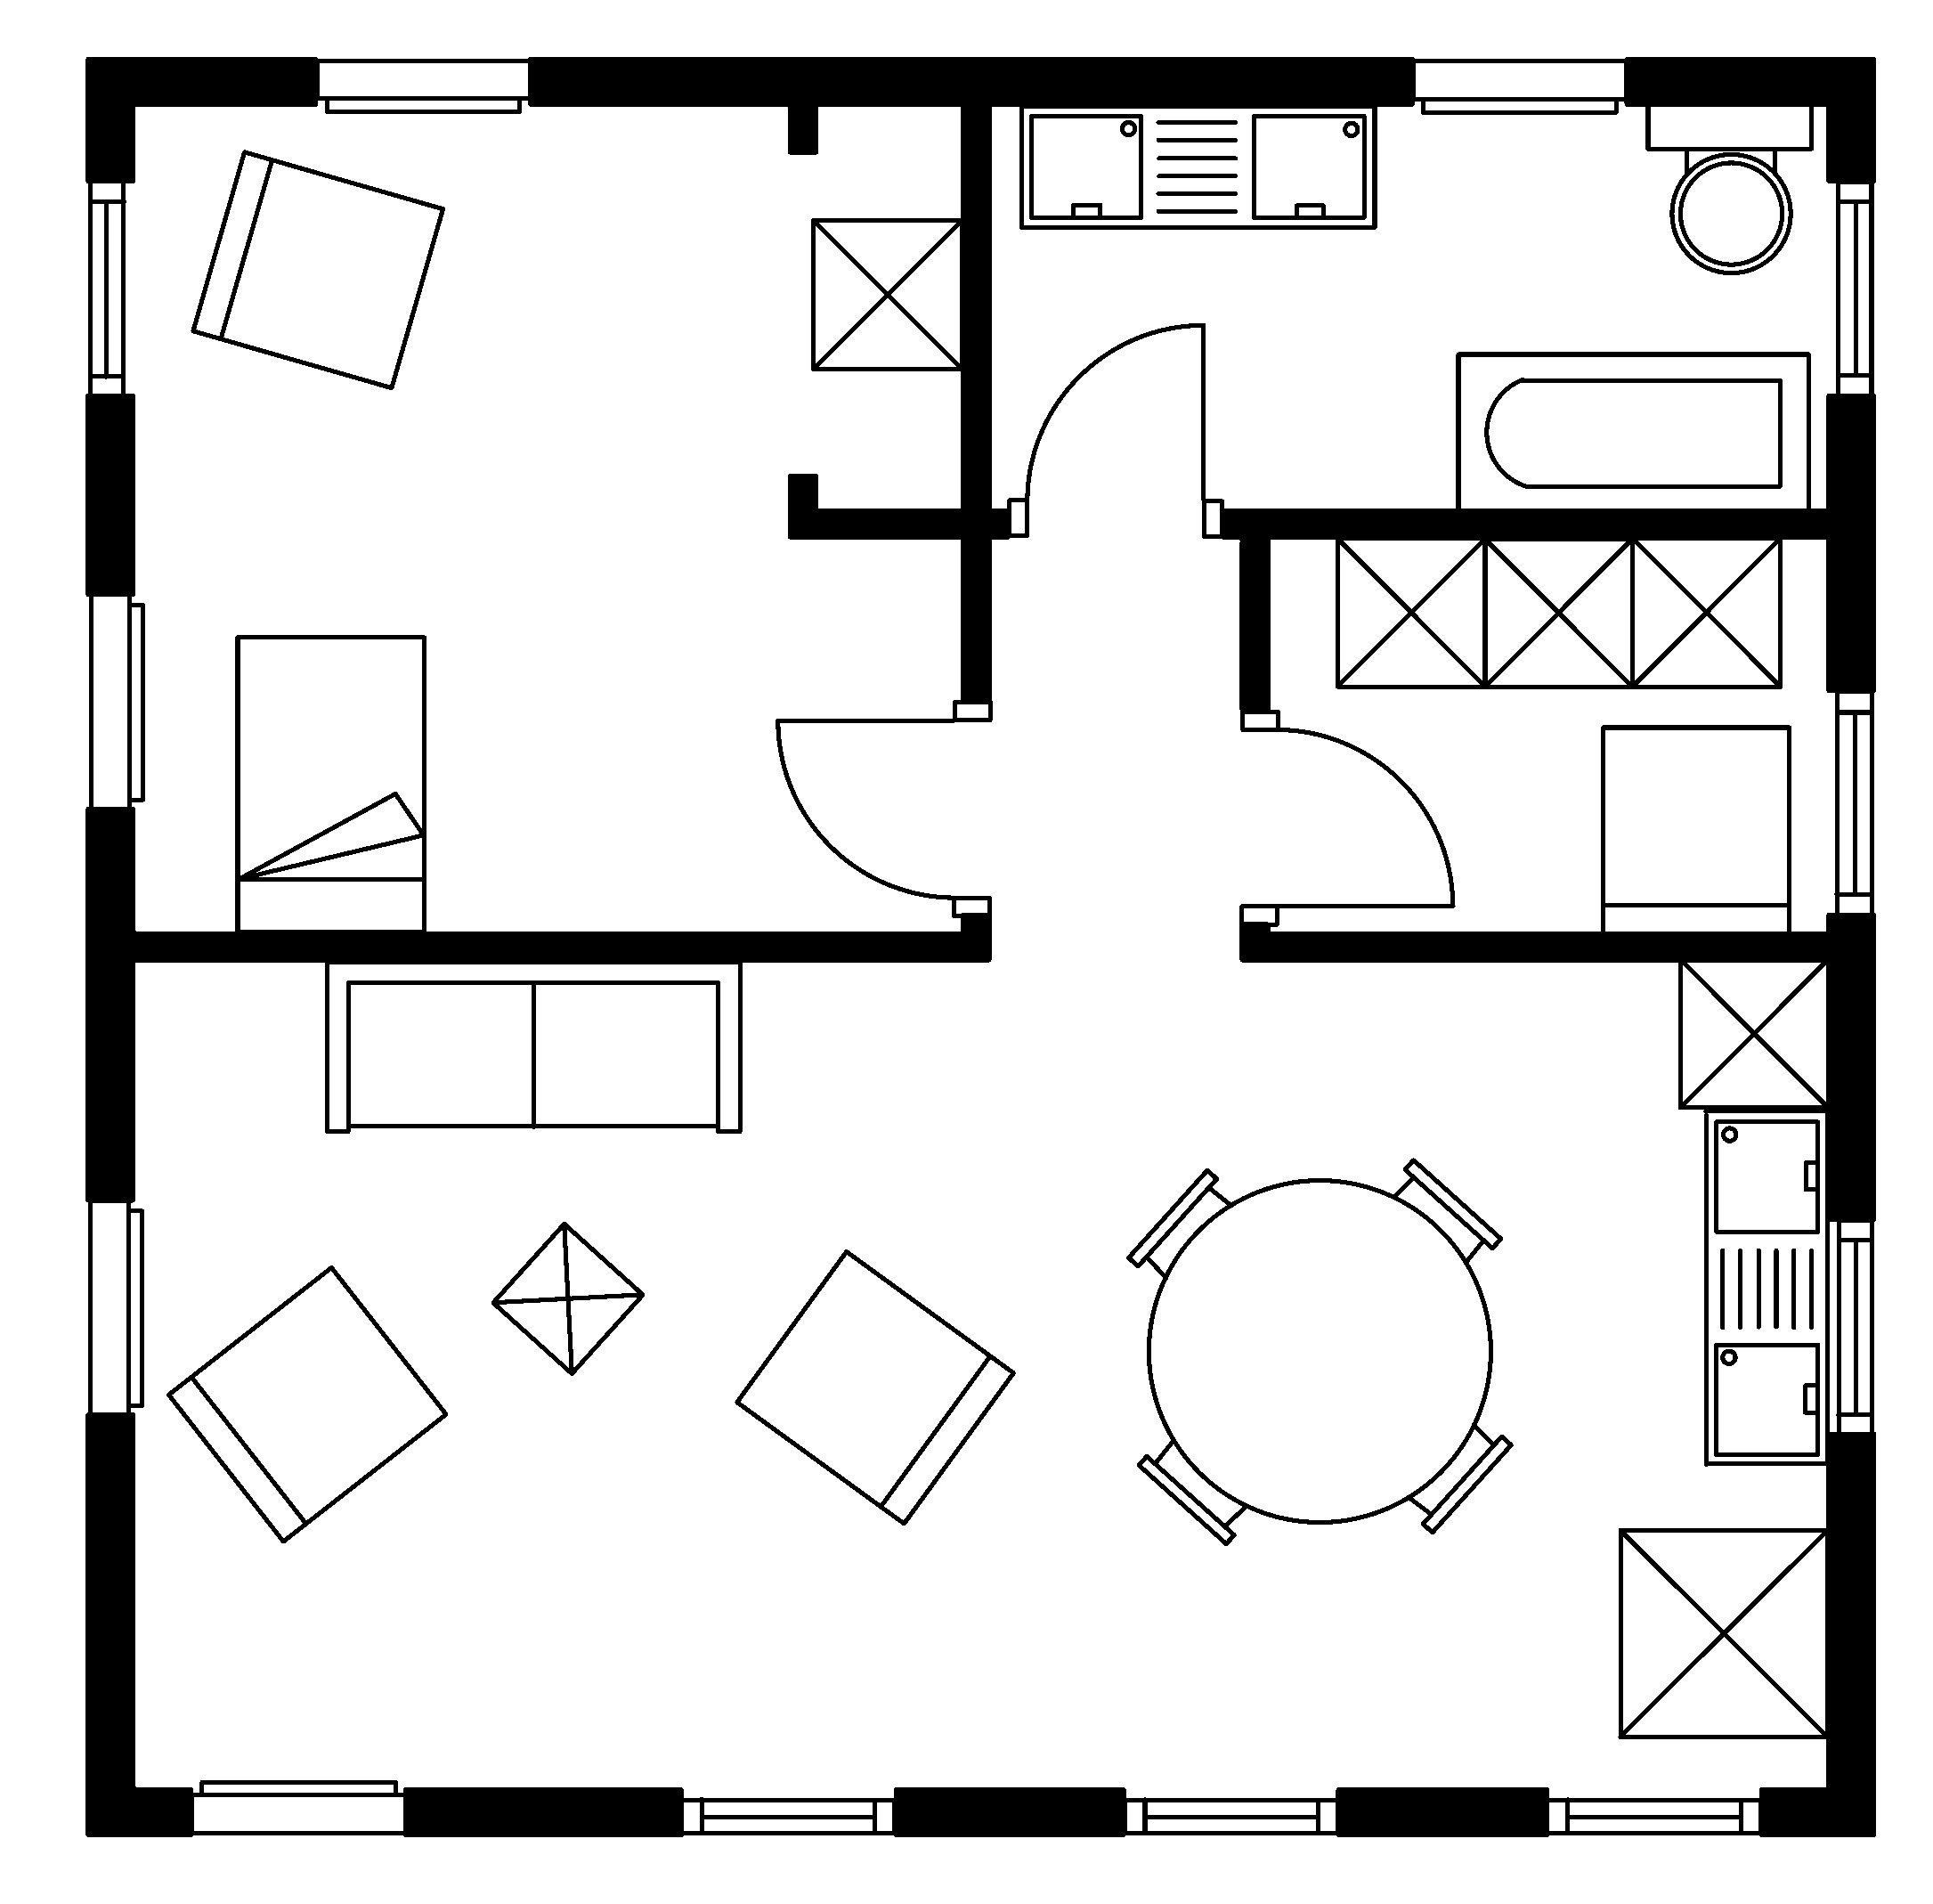basin: (1699, 1114, 1823, 1470), (1016, 110, 1380, 230)
bed: (230, 631, 431, 933)
door: (770, 699, 997, 915), (1239, 710, 1455, 924), (1009, 323, 1227, 532)
roundTable: (1128, 1153, 1513, 1548)
window: (1828, 1224, 1870, 1435), (87, 180, 127, 398), (1834, 692, 1874, 907), (675, 1798, 896, 1836), (1128, 1798, 1335, 1833), (1834, 183, 1867, 391), (1550, 1803, 1760, 1833)
